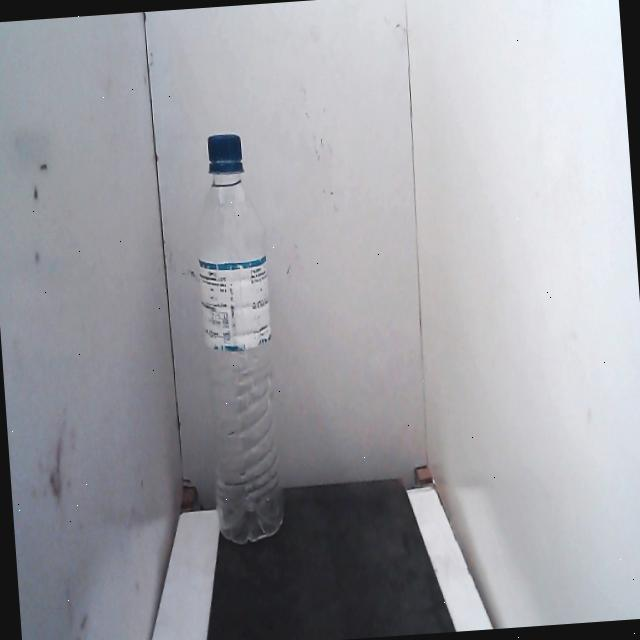plastico: (178, 119, 300, 562)
